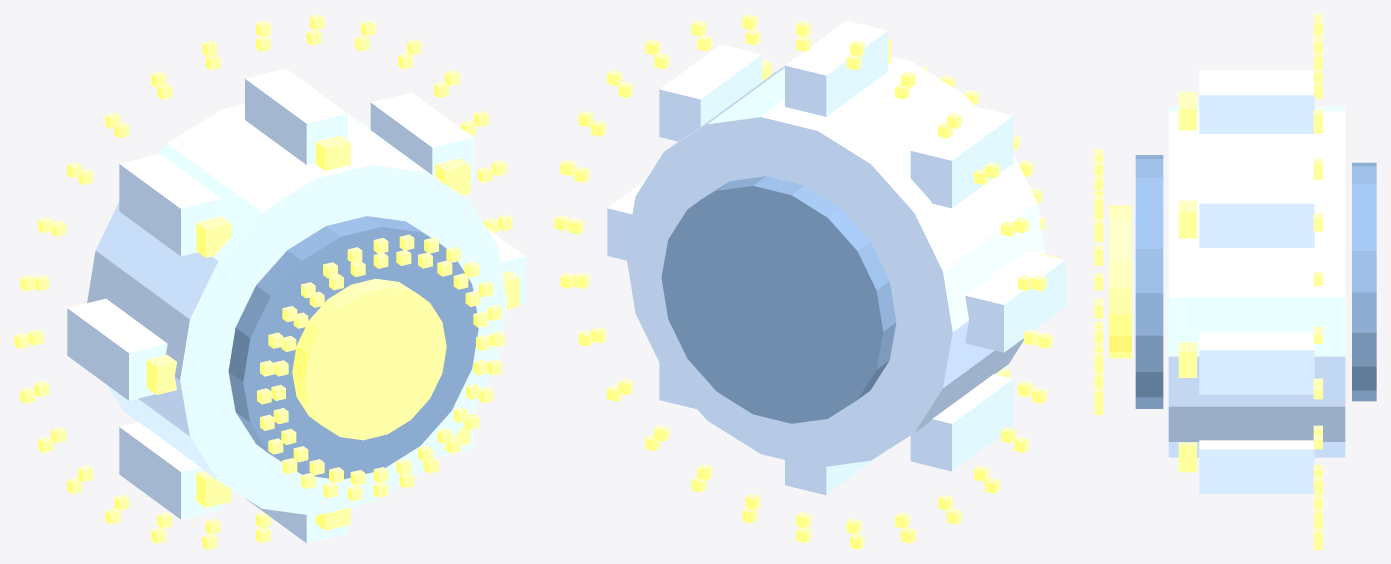
The picture shows the model from 3 angles, left to right: view 1: azimuth 30°, elevation 25°; view 2: azimuth 150°, elevation 25°; view 3: azimuth 270°, elevation 25°; orthographic projection. The views are drawn at different scales.
Parts seen in each view (by area): view 1: core, front, shield_core, brace_3, brace_4, brace_2, brace_1, brace_5, brace_6, glow_3, glow_4, glow_2 (+3 smaller); view 2: core, rear, brace_4, brace_3, brace_2, brace_1, brace_5, brace_6, brace_0, brace_7; view 3: core, brace_1, front, brace_0, brace_2, brace_7, rear, shield_core, brace_3, glow_1, glow_0, glow_2 (+1 smaller).
Part boxes in pixels (x1,y1,x2,y2): core: [87, 104, 506, 515]; front: [228, 216, 478, 479]; shield_core: [292, 278, 446, 440]; brace_3: [119, 154, 221, 256]; brace_4: [67, 298, 167, 400]; brace_2: [245, 68, 347, 164]; brace_1: [370, 92, 473, 185]; brace_5: [119, 422, 221, 519]; brace_6: [245, 498, 347, 543]; glow_3: [196, 216, 231, 257]; glow_4: [146, 354, 176, 394]; glow_2: [315, 135, 350, 171]; core: [625, 56, 1045, 467]; rear: [661, 176, 896, 423]; brace_4: [965, 250, 1065, 352]; brace_3: [910, 105, 1013, 208]; brace_2: [785, 20, 887, 116]; brace_1: [659, 44, 761, 141]; brace_5: [910, 374, 1013, 471]; brace_6: [785, 450, 887, 495]; brace_0: [607, 180, 645, 260]; brace_7: [659, 363, 696, 409]; core: [1168, 106, 1345, 457]; brace_1: [1199, 184, 1314, 247]; front: [1135, 155, 1163, 408]; brace_0: [1199, 332, 1314, 394]; brace_2: [1199, 76, 1314, 133]; brace_7: [1199, 440, 1314, 493]; rear: [1352, 162, 1376, 401]; shield_core: [1109, 205, 1131, 358]; brace_3: [1199, 70, 1313, 76]; glow_1: [1178, 200, 1196, 238]; glow_0: [1178, 342, 1196, 377]; glow_2: [1178, 97, 1196, 130].
Bounding box in the file's own units: 3.47 × 3.47 × 1.84.
